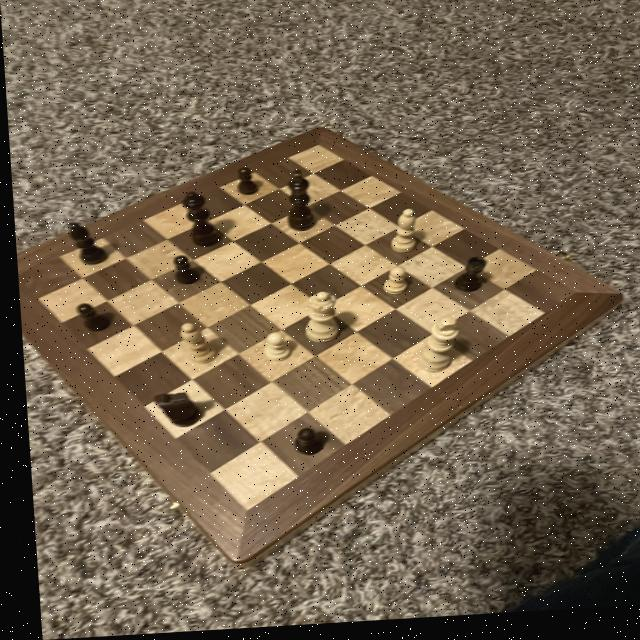bishop: (59, 217, 107, 272)
black-bishop: (276, 169, 321, 237)
black-king: (144, 389, 202, 436)
black-knight: (283, 427, 321, 462), (68, 301, 108, 334), (165, 254, 200, 288), (231, 164, 256, 201)
black-pawn: (174, 190, 224, 255)
black-queen: (445, 259, 488, 300)
black-rook: (380, 209, 421, 262), (173, 322, 213, 370)
white-bishop: (400, 318, 462, 381)
white-knight: (375, 269, 409, 303), (258, 332, 285, 368)
white-pawn: (297, 293, 337, 350)
